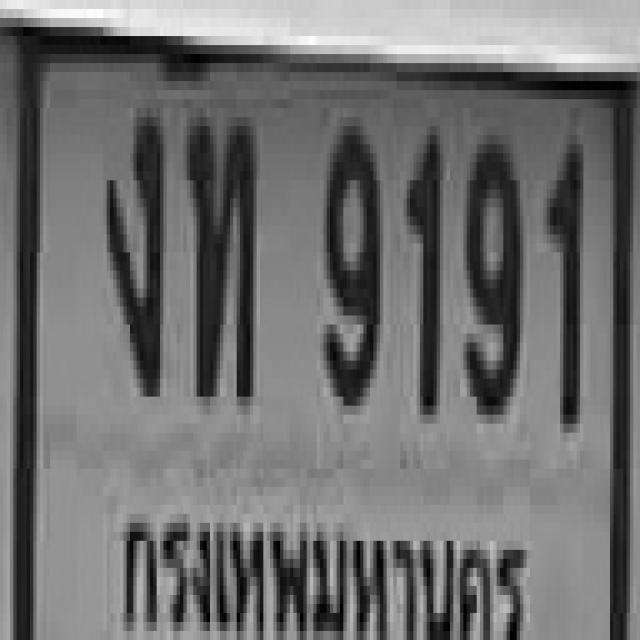1: (543, 131, 580, 419), (403, 117, 437, 406)
16NgorNgu: (103, 104, 160, 383)
32ThorThaHan: (184, 108, 254, 397)
9: (320, 113, 377, 392), (465, 122, 518, 401)
Bangkok: (113, 496, 530, 640)
